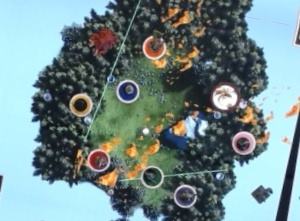blue: (114, 74, 144, 105)
green: (138, 162, 168, 192)
orange: (138, 30, 169, 60)
pink: (229, 129, 261, 158)
red: (85, 144, 114, 174)
violet: (171, 179, 201, 210)
yellow: (65, 87, 97, 118)
